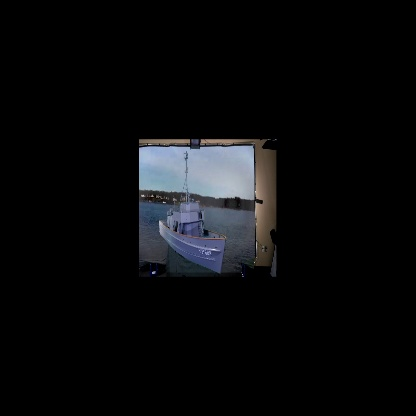YP689: (159, 151, 226, 273)
